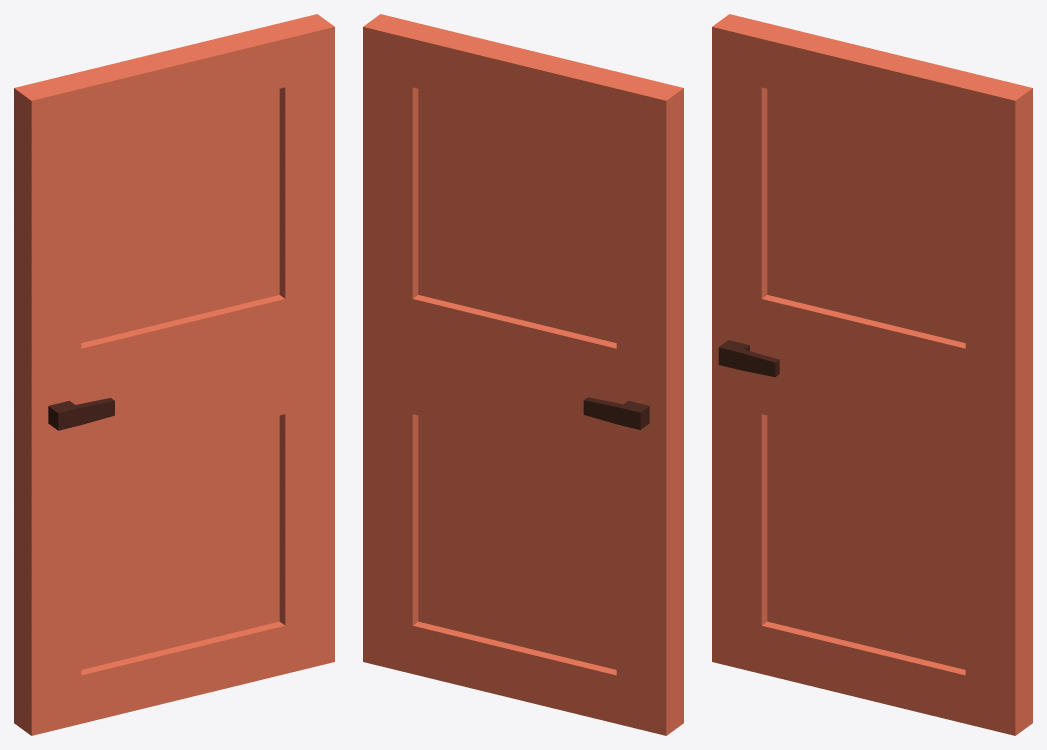
The model's file is ORANGE DOOR.fbx.
3 views of the same model, side by side, from view 1: azimuth 30°, elevation 25°; view 2: azimuth 150°, elevation 25°; view 3: azimuth 330°, elevation 25° (orthographic).
Parts seen in each view (by area): view 1: Cube; view 2: Cube; view 3: Cube.
Part boxes in pixels (x1,y1,x2,y2): Cube: (14,14,334,735); Cube: (363,14,683,735); Cube: (712,14,1032,735).
Bounding box in the file's own units: 200 × 400 × 42.17.
